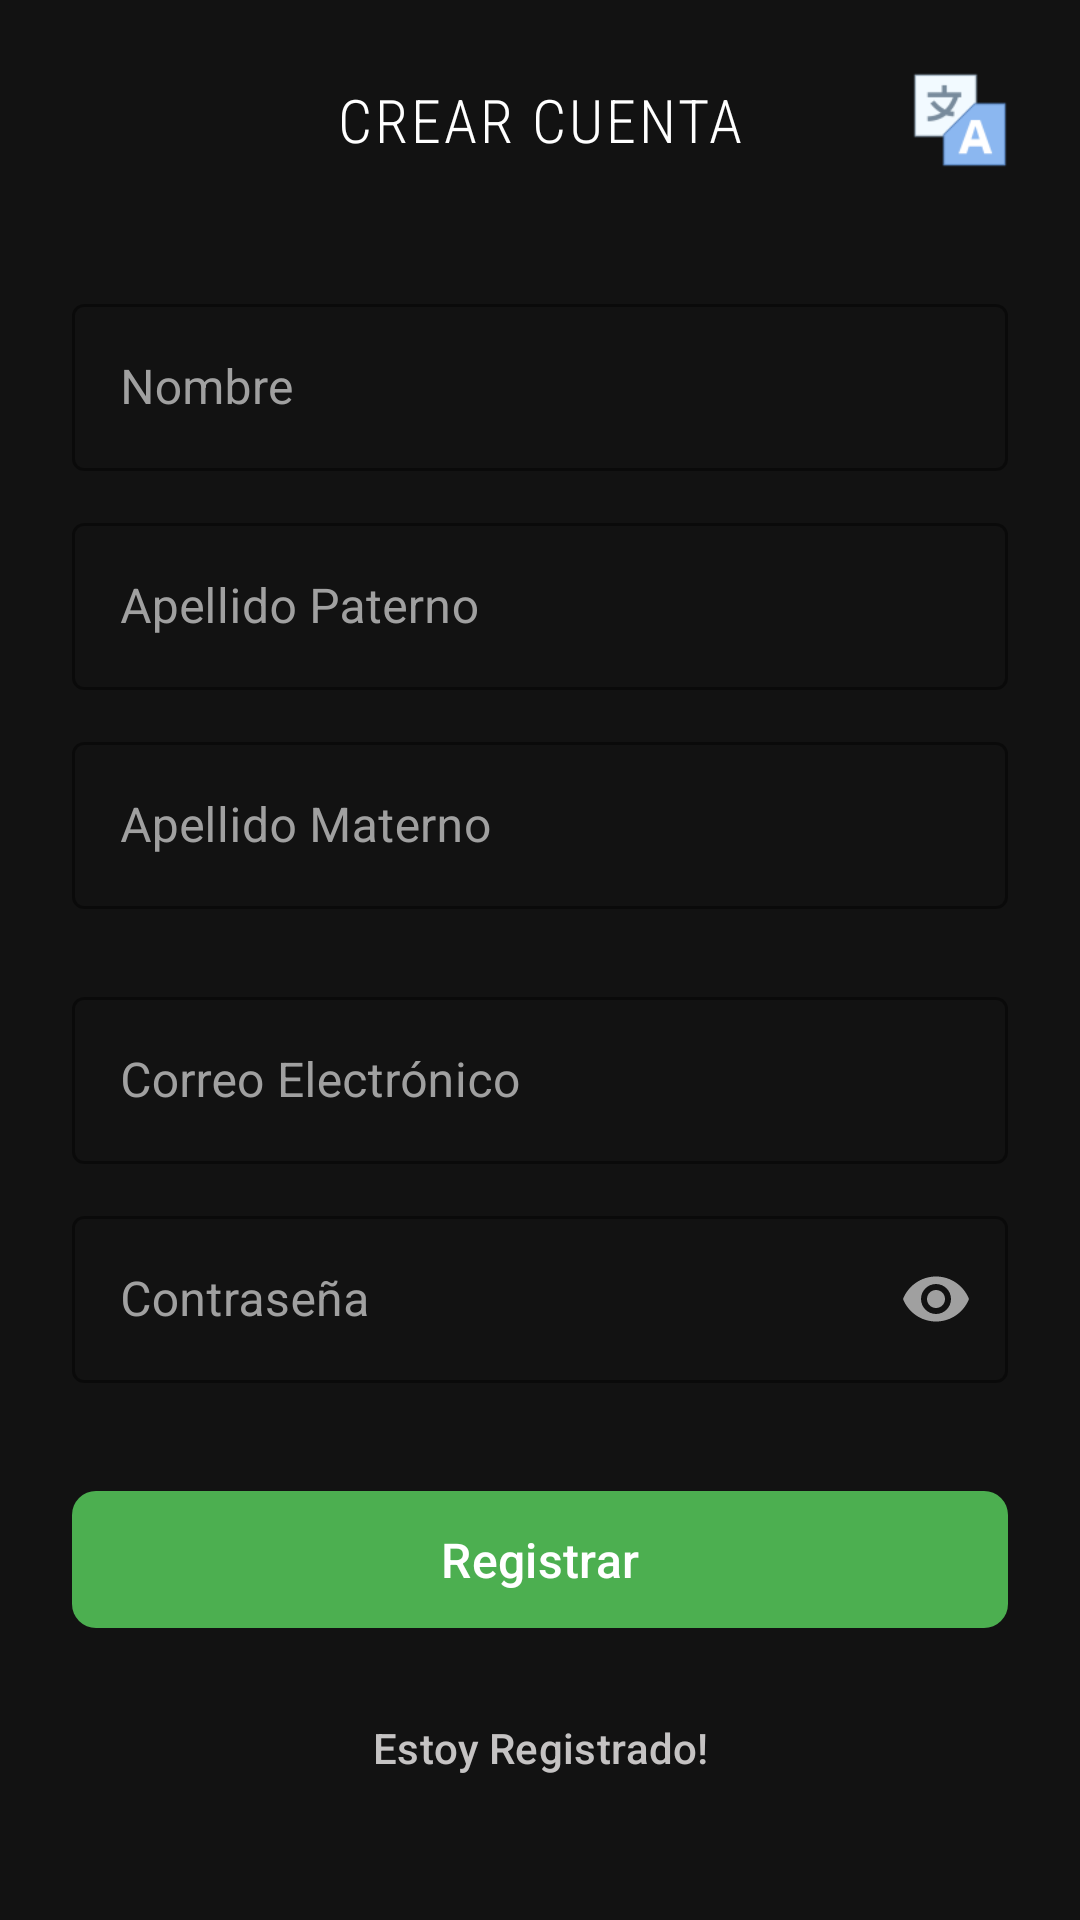

Named icons in this screenshot (1080 x 1920) and their bounding boxes, [left=x1, top=y1, right=x2, bottom=y2]:
Change Language: [left=914, top=74, right=1006, bottom=166]
